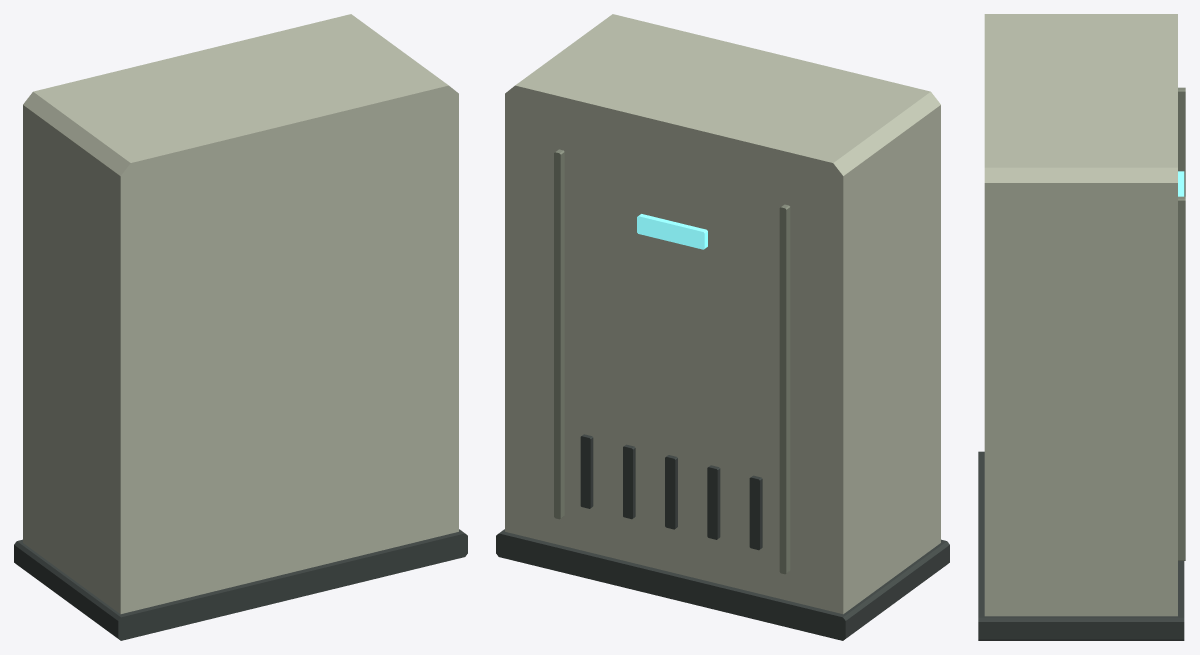
The model's file is HomeBattery.gltf.
3 views of the same model, side by side, from view 1: azimuth 30°, elevation 25°; view 2: azimuth 150°, elevation 25°; view 3: azimuth 270°, elevation 25° (orthographic).
Parts seen in each view (by area): view 1: HomeBattery; view 2: HomeBattery; view 3: HomeBattery.
Part boxes in pixels (box(x1,y1,x2,y2)): HomeBattery: box(14, 14, 467, 640); HomeBattery: box(496, 14, 949, 640); HomeBattery: box(978, 14, 1185, 640).
Size of the model in its own units: 0.62 by 0.8 by 0.322.
